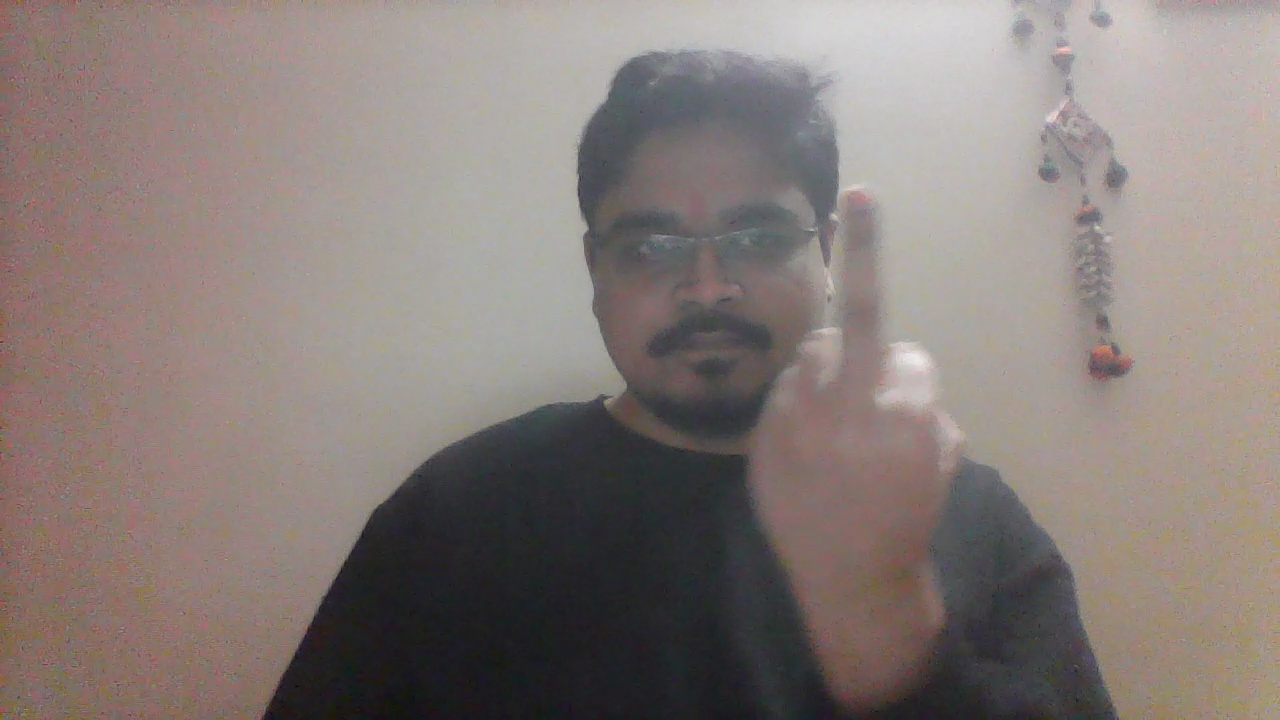Fuck Off: (745, 184, 954, 636)
